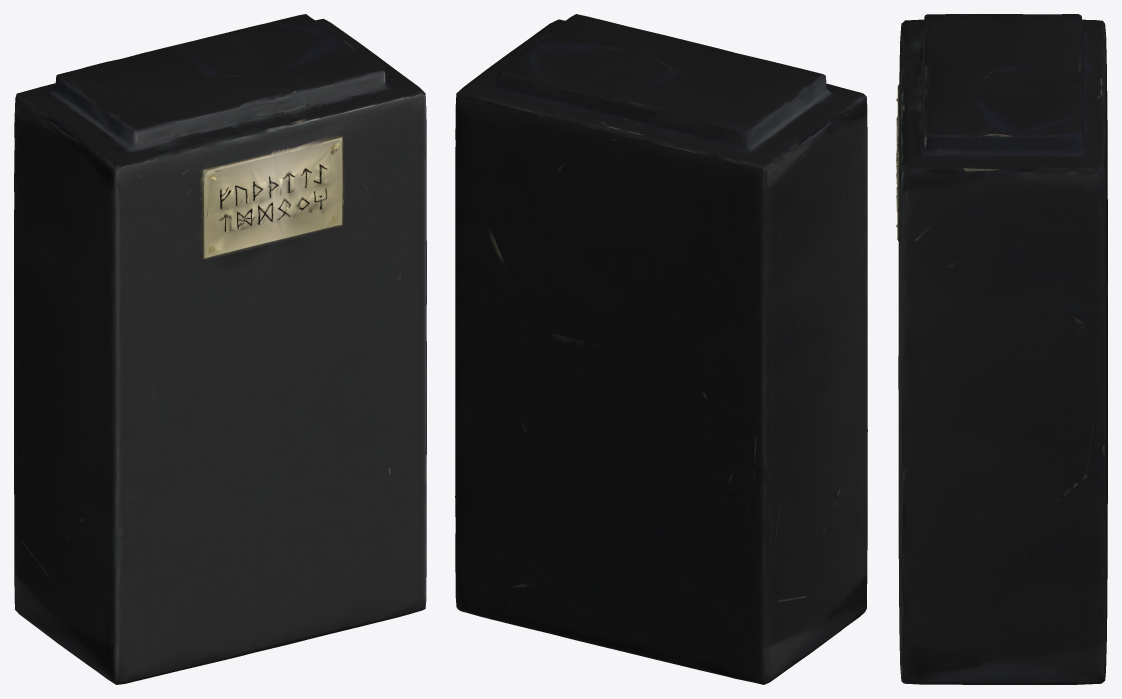
File: Meshy_AI_Runic_Vault_0313021208_texture.fbx
3 renders of one model, left to right at view 1: azimuth 30°, elevation 25°; view 2: azimuth 150°, elevation 25°; view 3: azimuth 270°, elevation 25°, orthographic.
Visible parts, largest first — view 1: Mesh_0; view 2: Mesh_0; view 3: Mesh_0.
Boxes of the visible parts, x1,y1,x2,y2 form: Mesh_0: (14, 14, 426, 684); Mesh_0: (455, 14, 867, 684); Mesh_0: (896, 14, 1107, 684).
Size of the model in its own units: 117 by 192 by 68.45.
1 material, 1 textured.
